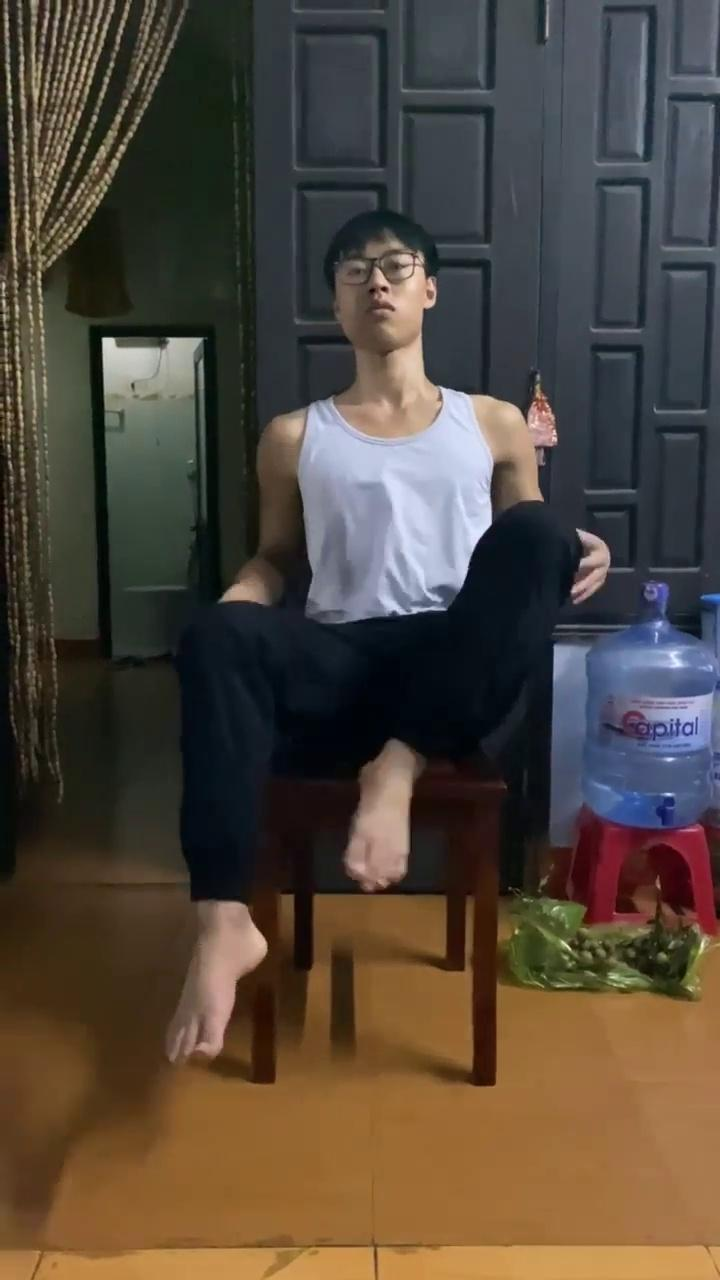BadPosture: (180, 502, 571, 932)
